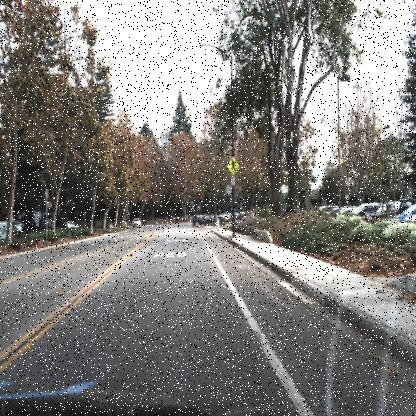car: (62, 216, 80, 234), (130, 215, 141, 229)
